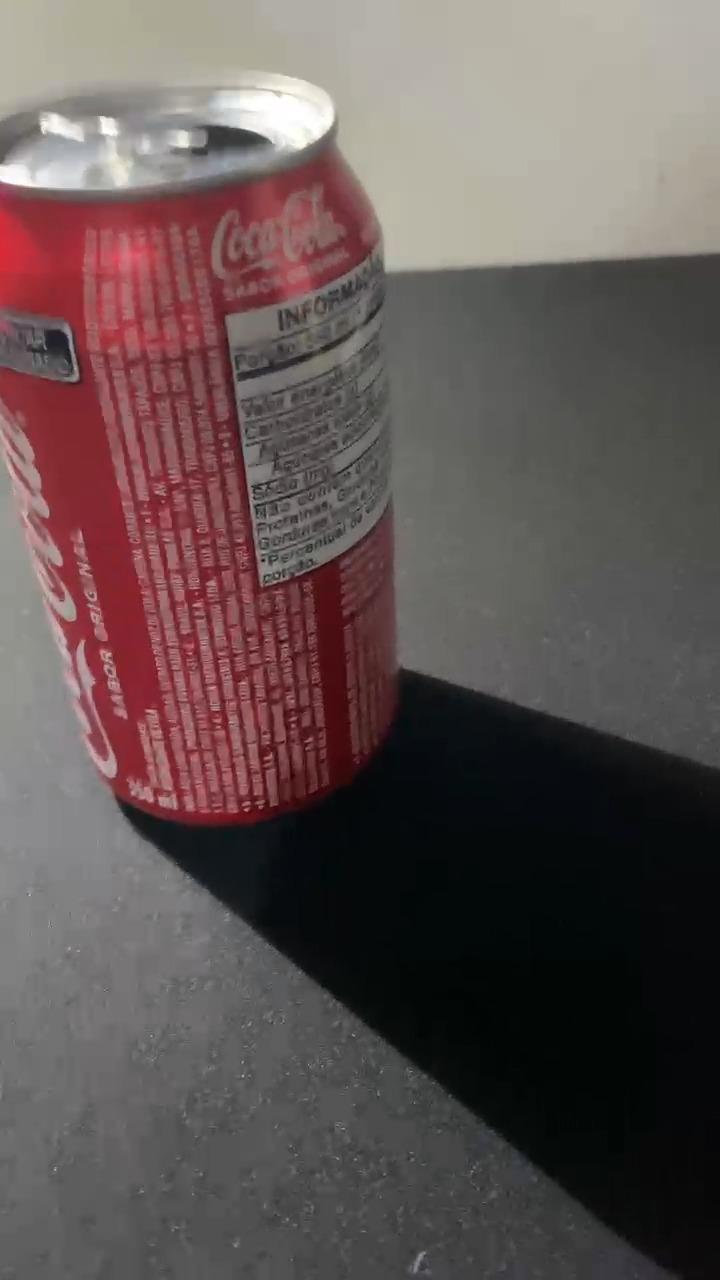coke: (5, 82, 401, 818)
